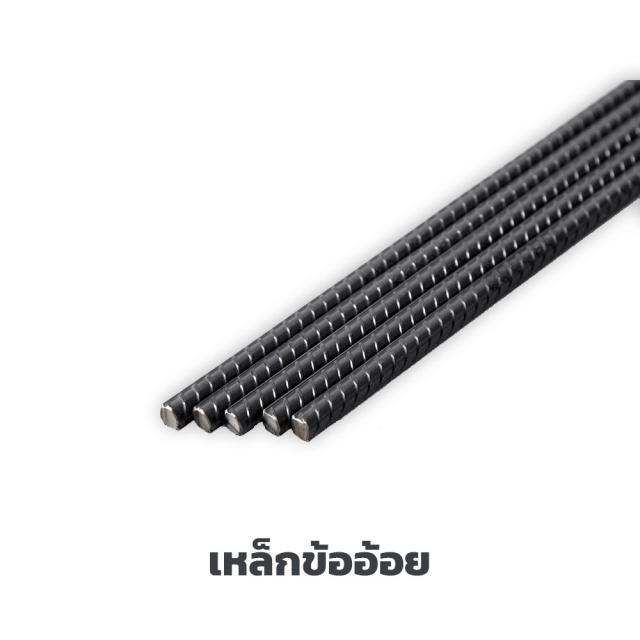Rebar: (261, 408, 289, 439), (152, 397, 176, 433), (222, 405, 246, 438), (287, 414, 313, 442), (192, 408, 214, 439)
